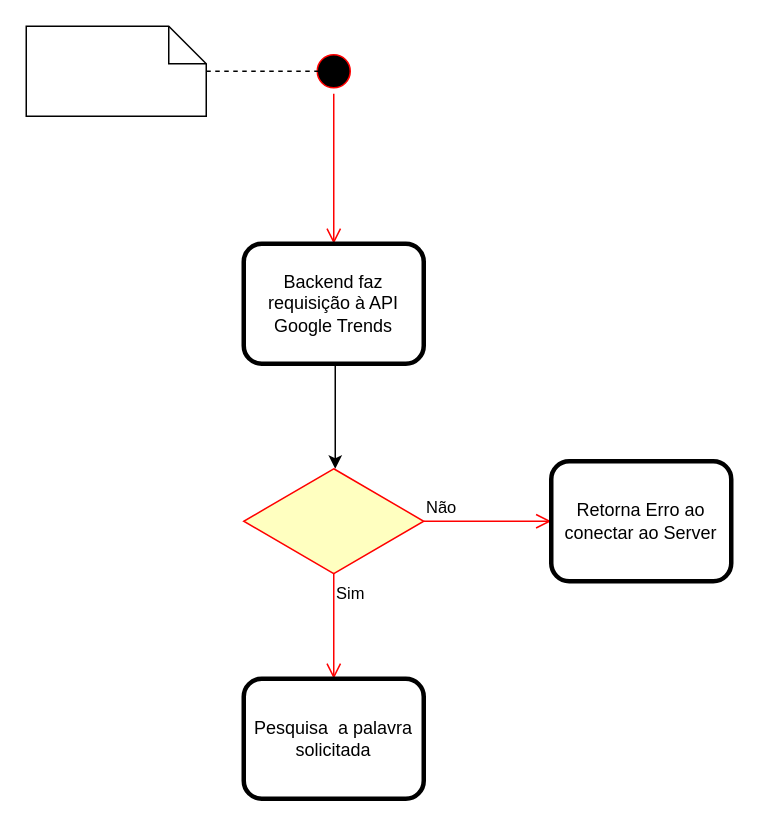
This 759x827 diagram has some shape labels left out. The shapes that lost their labels are listed below. From the top down, each one's centre as x and y in pixels, then its label:
At (x=115, y=70): "Consulta API Externa".
At (x=333, y=520): "Conectou na Api".
